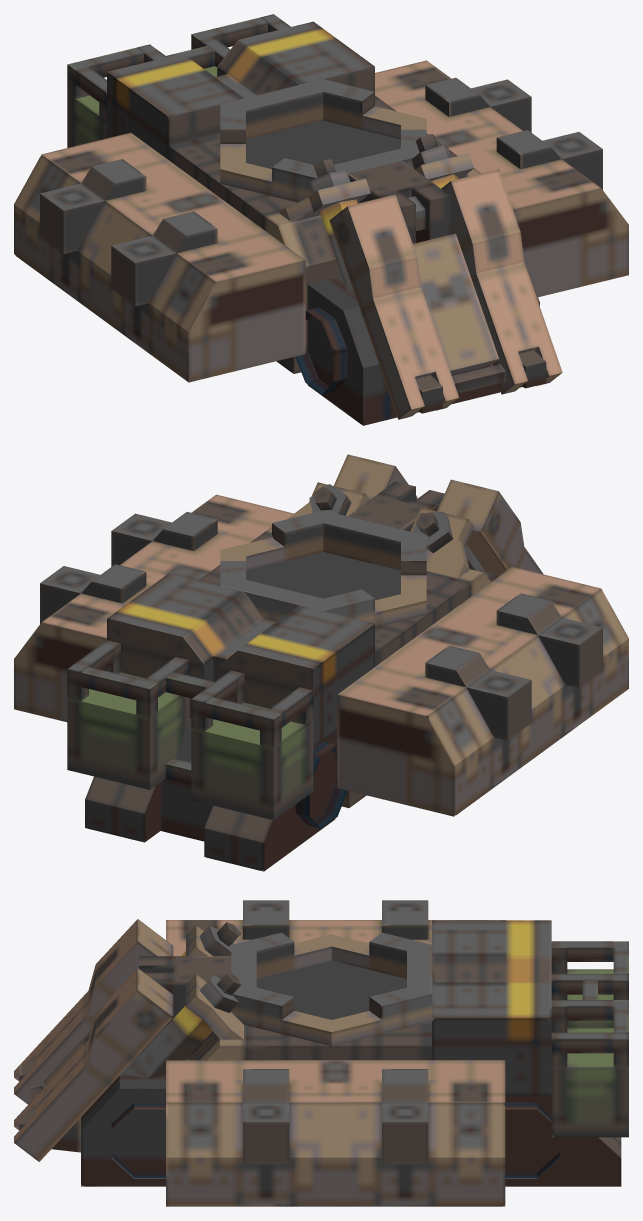
File: tankhull.fbx
The picture shows the model from 3 angles, top to bottom: view 1: azimuth 30°, elevation 25°; view 2: azimuth 150°, elevation 25°; view 3: azimuth 270°, elevation 25°; orthographic projection. The views are drawn at different scales.
Parts seen in each view (by area): view 1: cuboid_10, cuboid_3, cuboid_5, cuboid_32, cylinder_4, cuboid, cuboid_1, cuboid_9, cuboid_8, cuboid_11, cuboid_6, cuboid_7 (+11 smaller); view 2: cuboid_10, cuboid_32, cylinder_4, cuboid_2, cuboid_5, cuboid_30, cuboid_31, cuboid, cuboid_3, cuboid_8, cuboid_9, cuboid_7 (+18 smaller); view 3: cuboid_5, cuboid_32, cuboid_3, cylinder_4, cuboid, cuboid_1, cuboid_2, cuboid_31, cuboid_6, cuboid_7, cylinder_3, cuboid_10 (+20 smaller).
Boxes of the visible parts, bbox=[...] form: cuboid_10: bbox=[14, 132, 305, 382]; cuboid_3: bbox=[329, 169, 562, 419]; cuboid_5: bbox=[375, 60, 628, 297]; cuboid_32: bbox=[107, 21, 374, 159]; cylinder_4: bbox=[220, 79, 426, 202]; cuboid: bbox=[168, 95, 481, 373]; cuboid_1: bbox=[307, 276, 521, 425]; cuboid_9: bbox=[111, 211, 217, 306]; cuboid_8: bbox=[40, 159, 146, 253]; cuboid_11: bbox=[348, 160, 450, 243]; cuboid_6: bbox=[496, 130, 602, 189]; cuboid_7: bbox=[425, 77, 531, 132]; cuboid_10: bbox=[337, 567, 628, 816]; cuboid_32: bbox=[107, 573, 374, 747]; cylinder_4: bbox=[220, 510, 426, 627]; cuboid_2: bbox=[85, 713, 335, 871]; cuboid_5: bbox=[14, 494, 293, 721]; cuboid_30: bbox=[191, 702, 313, 820]; cuboid_31: bbox=[67, 672, 189, 789]; cuboid: bbox=[198, 527, 490, 807]; cuboid_3: bbox=[333, 454, 543, 575]; cuboid_8: bbox=[425, 645, 531, 740]; cuboid_9: bbox=[496, 593, 602, 687]; cuboid_7: bbox=[40, 564, 146, 623]; cuboid_5: bbox=[166, 1060, 505, 1206]; cuboid_32: bbox=[432, 920, 551, 1095]; cuboid_3: bbox=[14, 919, 173, 1161]; cylinder_4: bbox=[231, 932, 432, 1046]; cuboid: bbox=[189, 960, 435, 1060]; cuboid_1: bbox=[81, 1055, 188, 1186]; cuboid_2: bbox=[505, 1095, 621, 1186]; cuboid_31: bbox=[551, 1028, 628, 1137]; cuboid_6: bbox=[243, 1069, 289, 1164]; cuboid_7: bbox=[382, 1069, 428, 1164]; cylinder_3: bbox=[123, 971, 241, 1078]; cuboid_10: bbox=[166, 920, 504, 956].
Size of the model in its own units: 425 by 175 by 498.
1 material, 1 textured.
